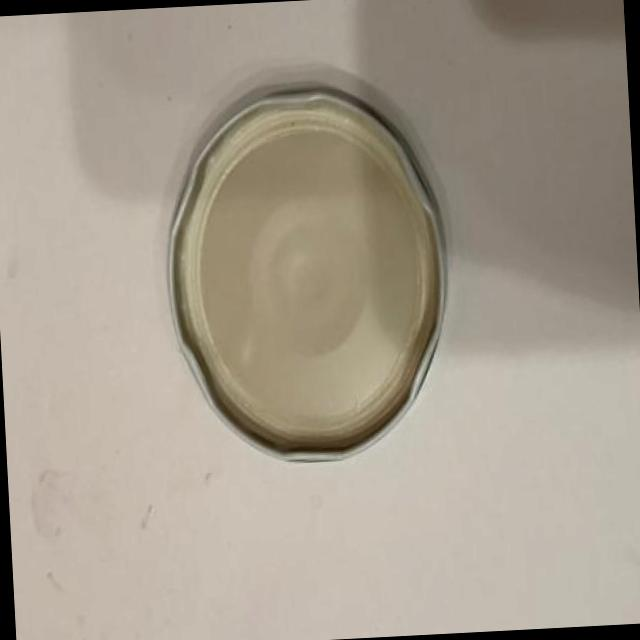nhom: (165, 80, 450, 464)
